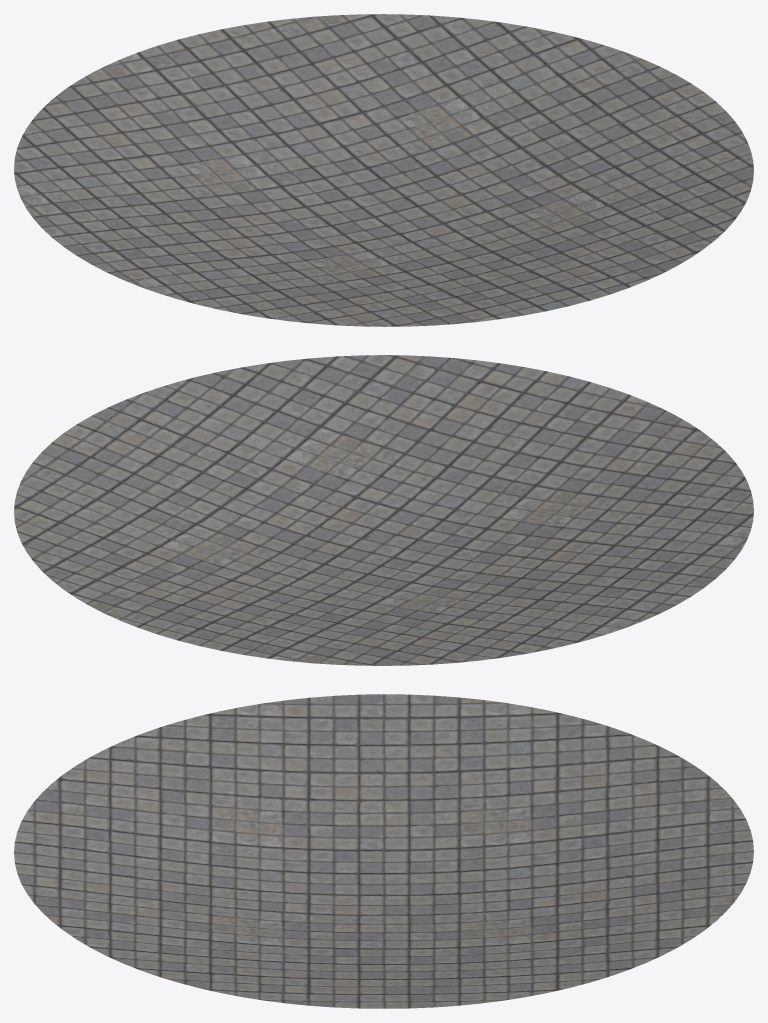
Rendered from bathroomtile.glb.
3 views of the same model, one above another, from view 1: azimuth 30°, elevation 25°; view 2: azimuth 150°, elevation 25°; view 3: azimuth 270°, elevation 25° (orthographic).
Parts seen in each view (by area): view 1: Object_2; view 2: Object_2; view 3: Object_2.
Boxes of the visible parts, x1,y1,x2,y2 form: Object_2: [14, 14, 753, 326]; Object_2: [14, 355, 753, 665]; Object_2: [14, 694, 753, 1008].
Size of the model in its own units: 1316 by 67 by 1316.
Materials: 1 (1 with a texture image).
